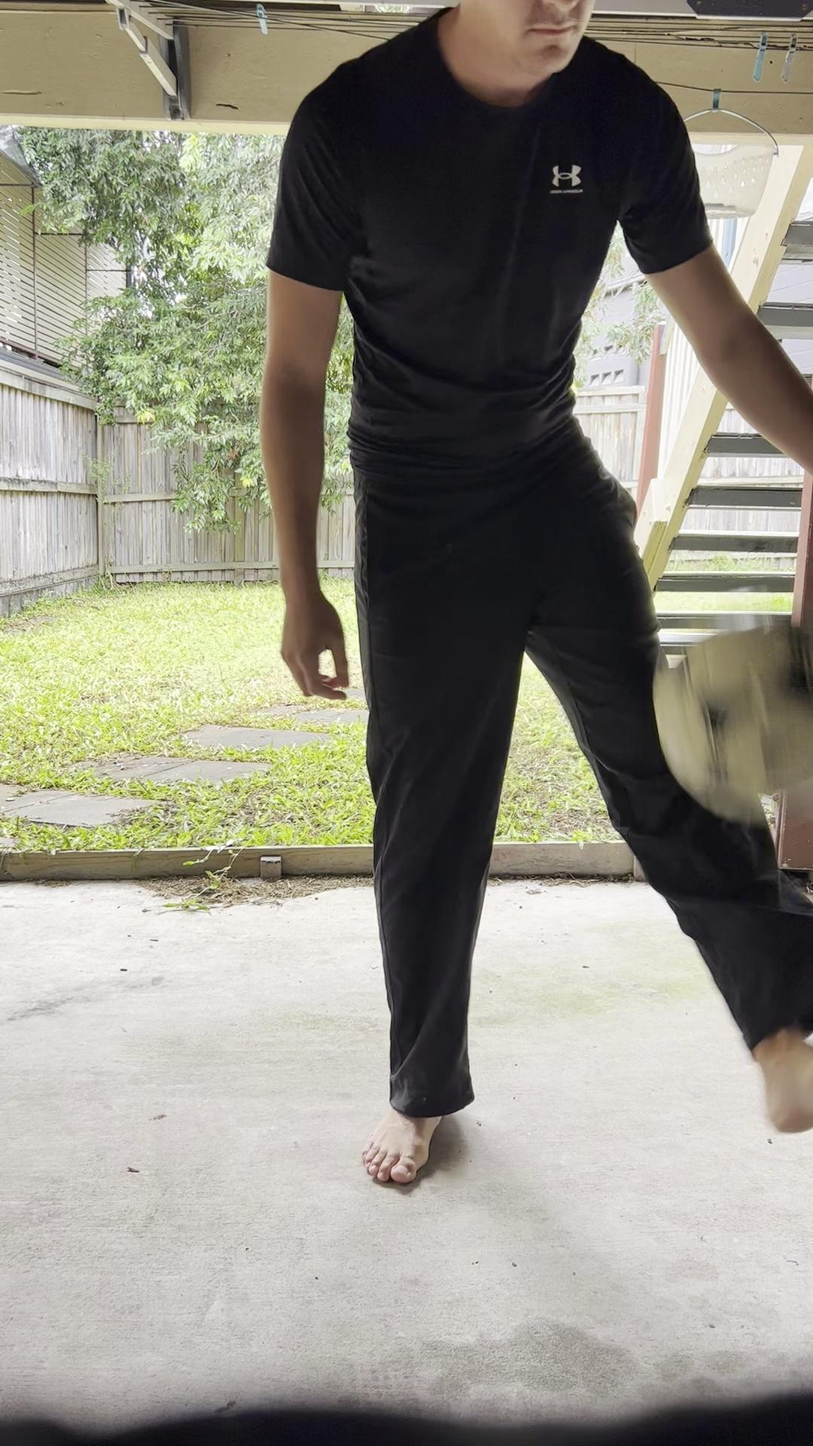ball: (656, 620, 813, 823)
foot: (360, 1106, 444, 1183), (755, 1025, 813, 1132)
person: (259, 0, 813, 1189)
